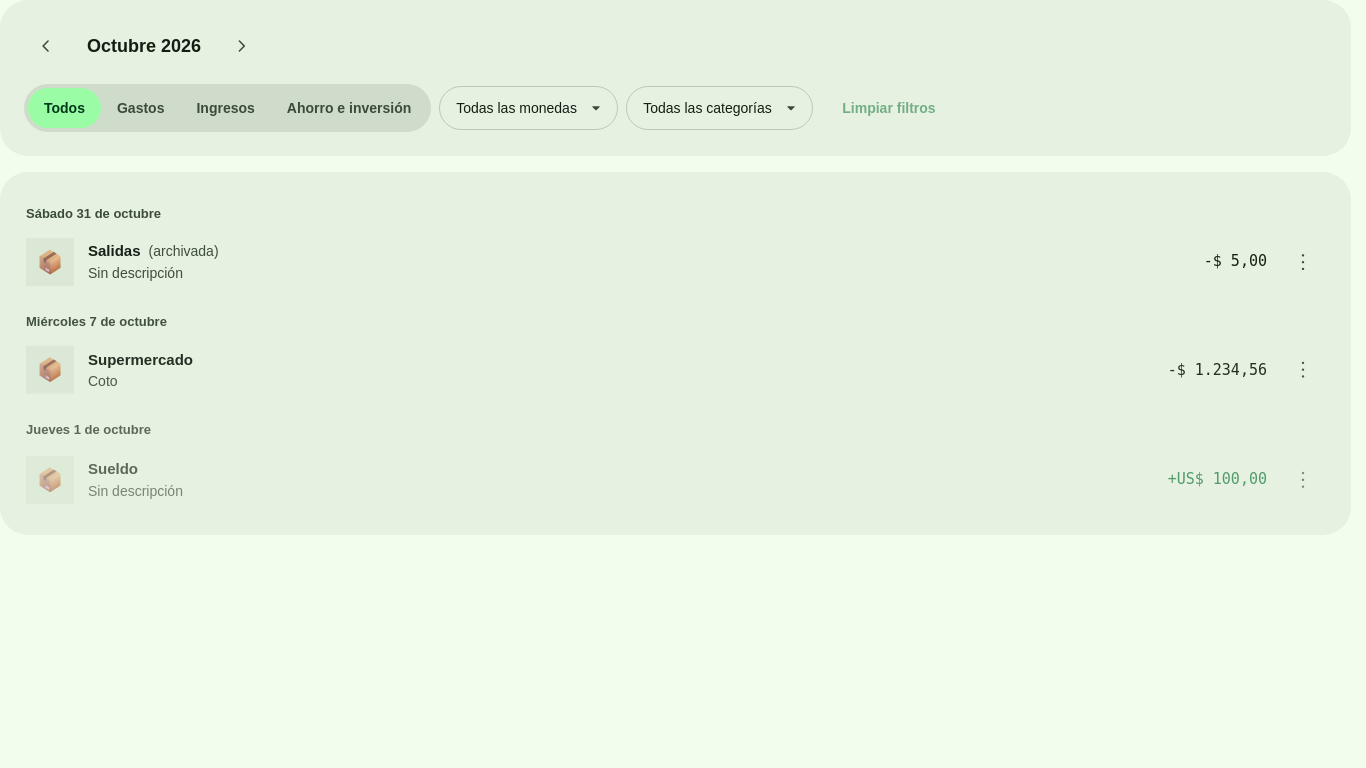
Scenario: MovementsPage › delete › keeps the movement when cancelling
What coordinates should you click on to do the following:
click the button named "Acciones del movimiento de Supermercado del 07/10/2026"
I would click on:
 (1303, 370)
Its box is 1281,348 -> 1325,392.
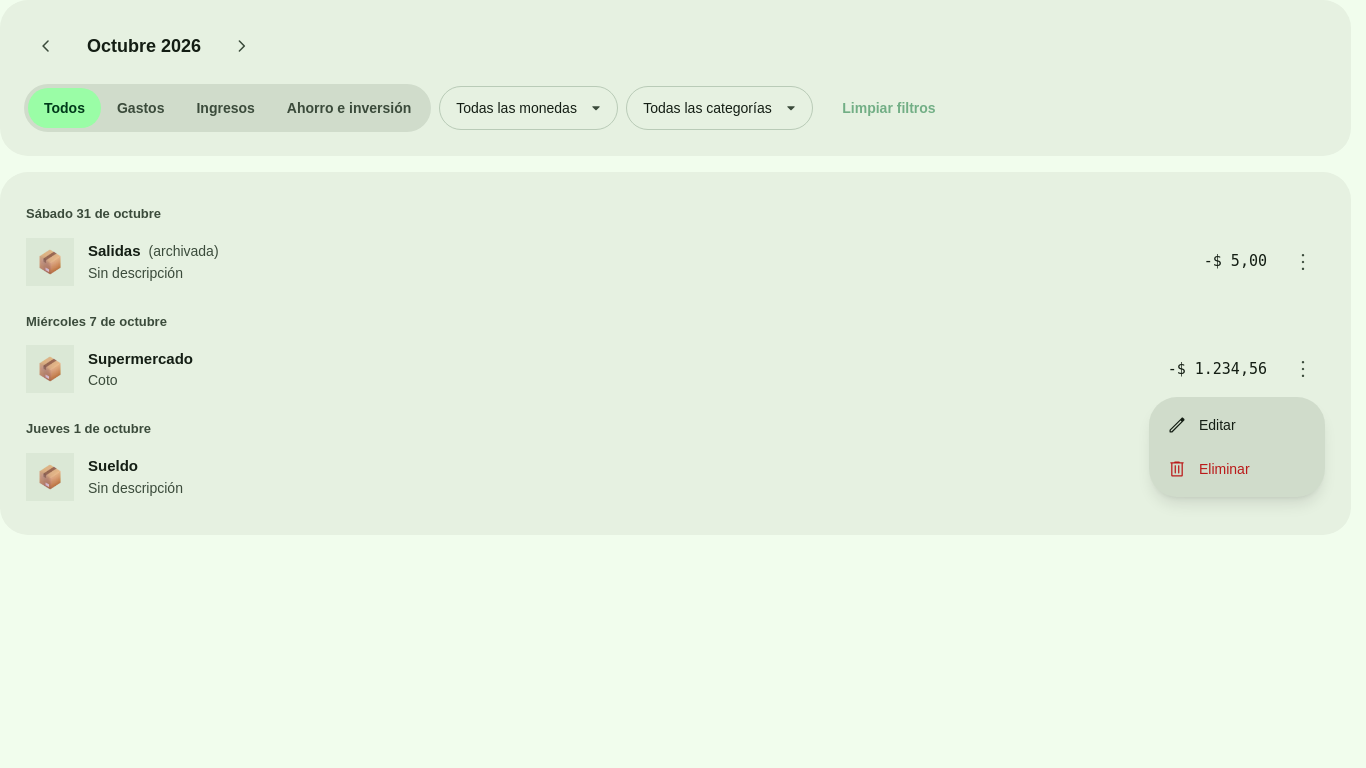
What coordinates should you click on to do the following:
click the menu item "Eliminar"
I would click on:
 (1208, 469)
Its box is 1167,459 -> 1250,479.
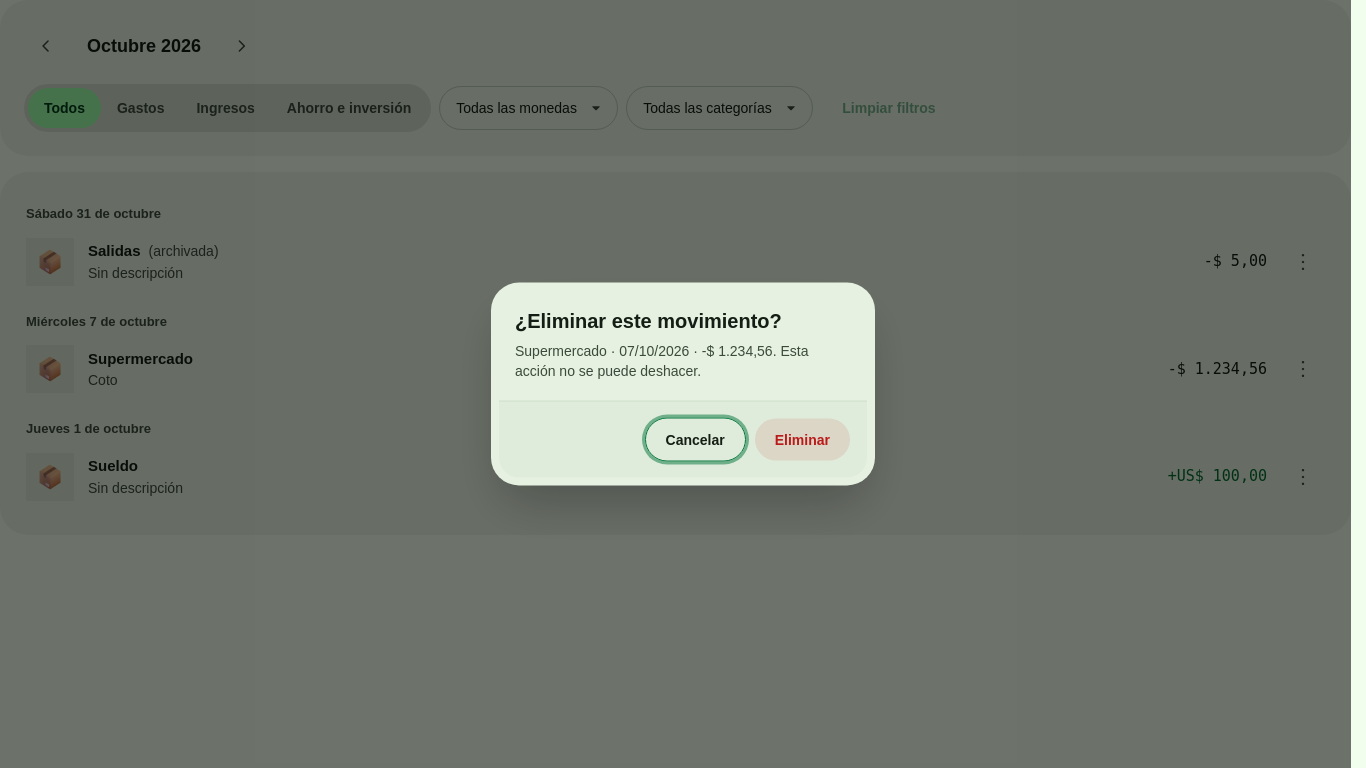
What coordinates should you click on to do the following:
click the button "Cancelar"
I would click on:
 (695, 440)
Its box is 645,418 -> 746,462.
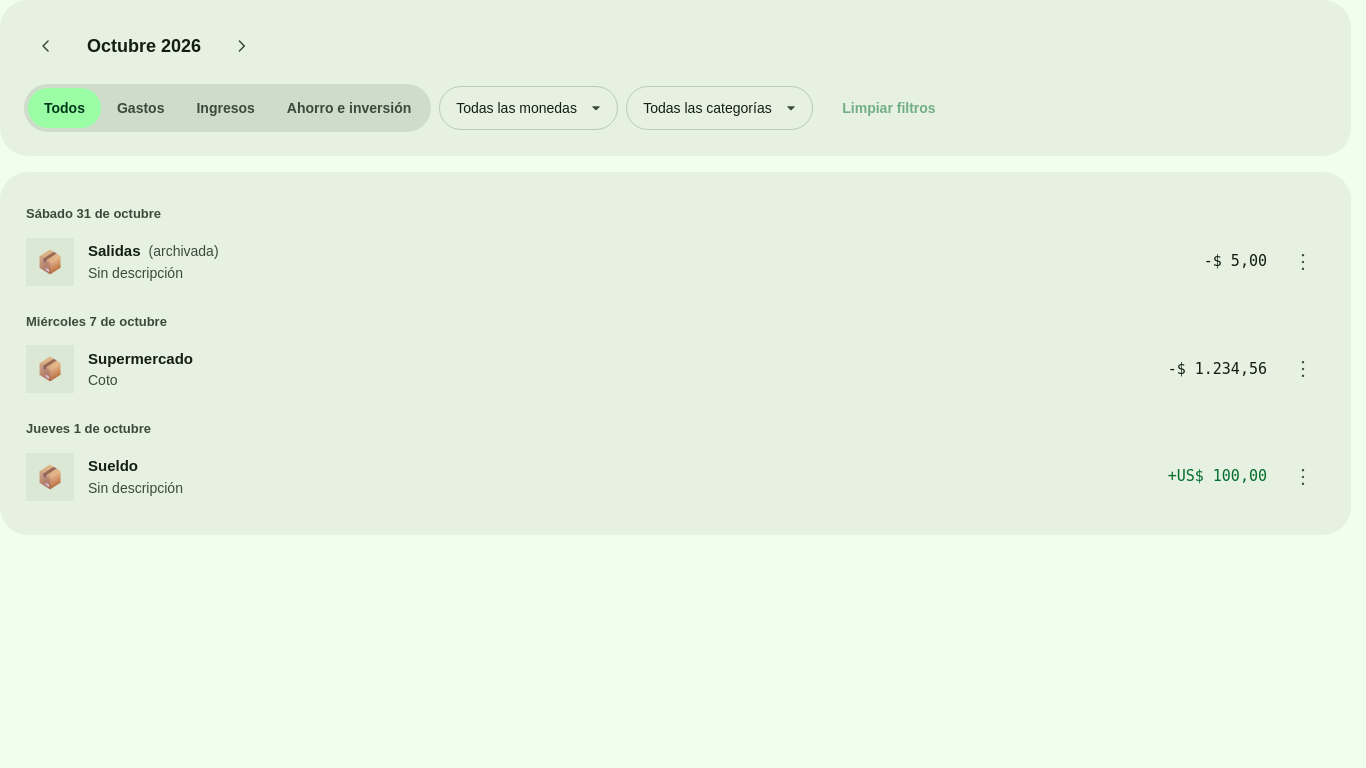
Expected: the number of list items is 3, 12,228 -> 1339,296; 12,335 -> 1339,403; 12,442 -> 1339,510
Expected: the dialog is gone
